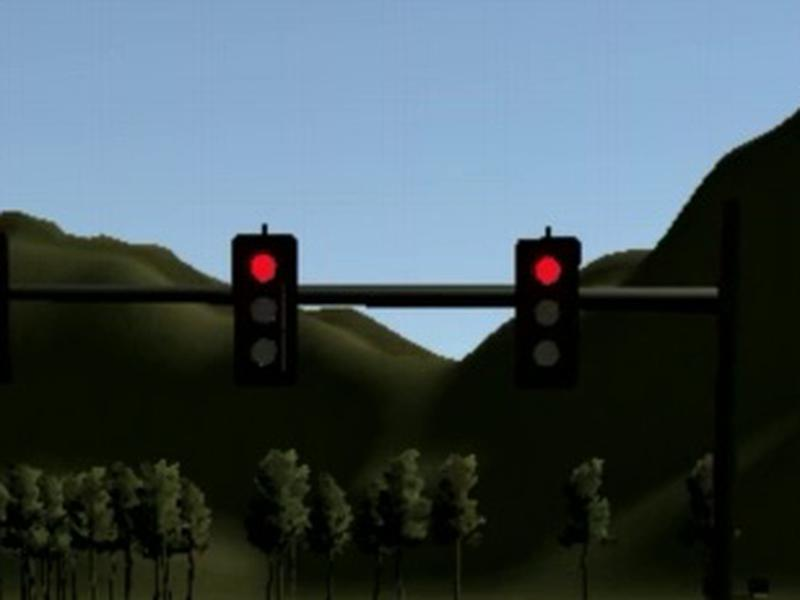Red: (514, 238, 581, 378), (230, 233, 297, 372)
